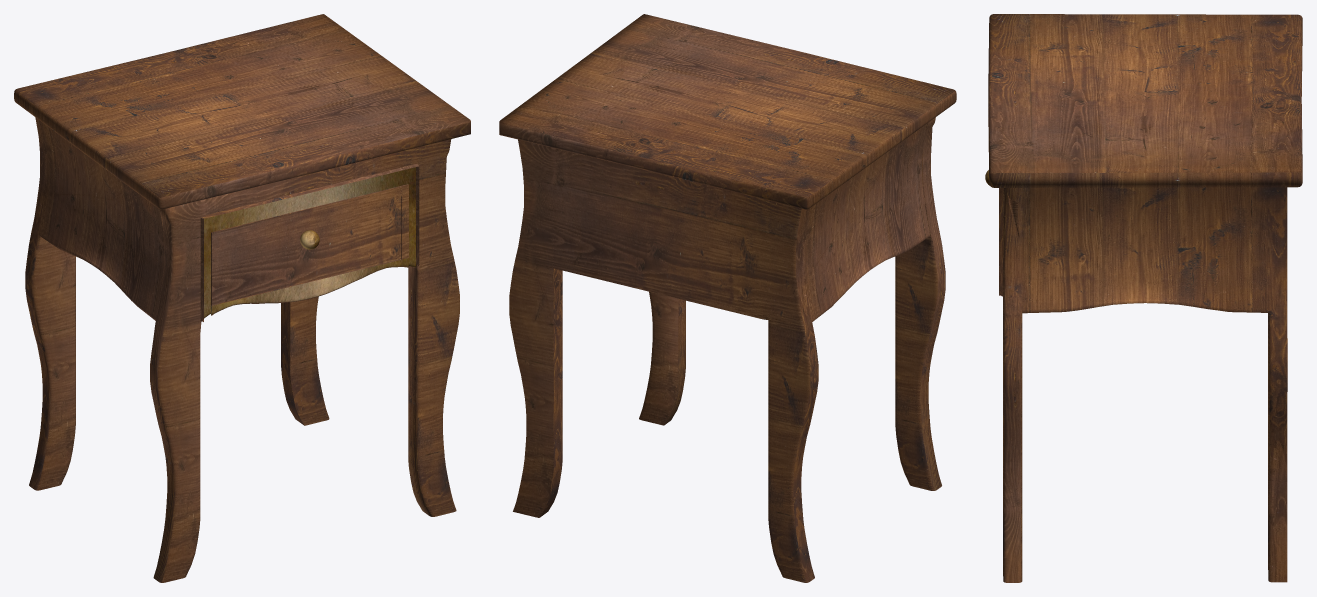
The model's file is uploads_files_4557793_nightstang.fbx.
The picture shows the model from 3 angles, left to right: view 1: azimuth 30°, elevation 25°; view 2: azimuth 150°, elevation 25°; view 3: azimuth 270°, elevation 25°; orthographic projection. The views are drawn at different scales.
Parts seen in each view (by area): view 1: nightstand; view 2: nightstand; view 3: nightstand.
Boxes of the visible parts, <box> form: nightstand: <box>14,14,470,582</box>; nightstand: <box>499,14,956,582</box>; nightstand: <box>985,14,1302,582</box>.
Bounding box in the file's own units: 24.38 × 29.3 × 20.38.
Materials: 5 (5 with a texture image).
